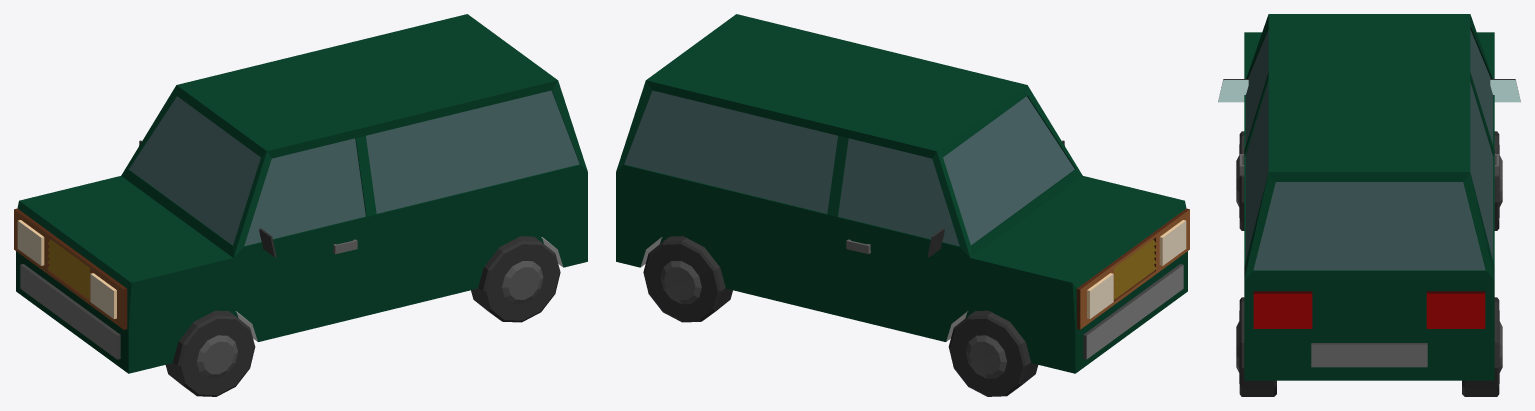
File: Van.glb
3 views of the same model, side by side, from view 1: azimuth 30°, elevation 25°; view 2: azimuth 150°, elevation 25°; view 3: azimuth 270°, elevation 25° (orthographic). The views are drawn at different scales.
Parts seen in each view (by area): view 1: Van; view 2: Van; view 3: Van.
Part boxes in pixels (x1,y1,x2,y2): Van: (14,14,587,396); Van: (616,14,1189,396); Van: (1218,14,1520,396).
Bounding box in the file's own units: 3.62 × 1.63 × 1.81.
Materials: 1 (1 with a texture image).
